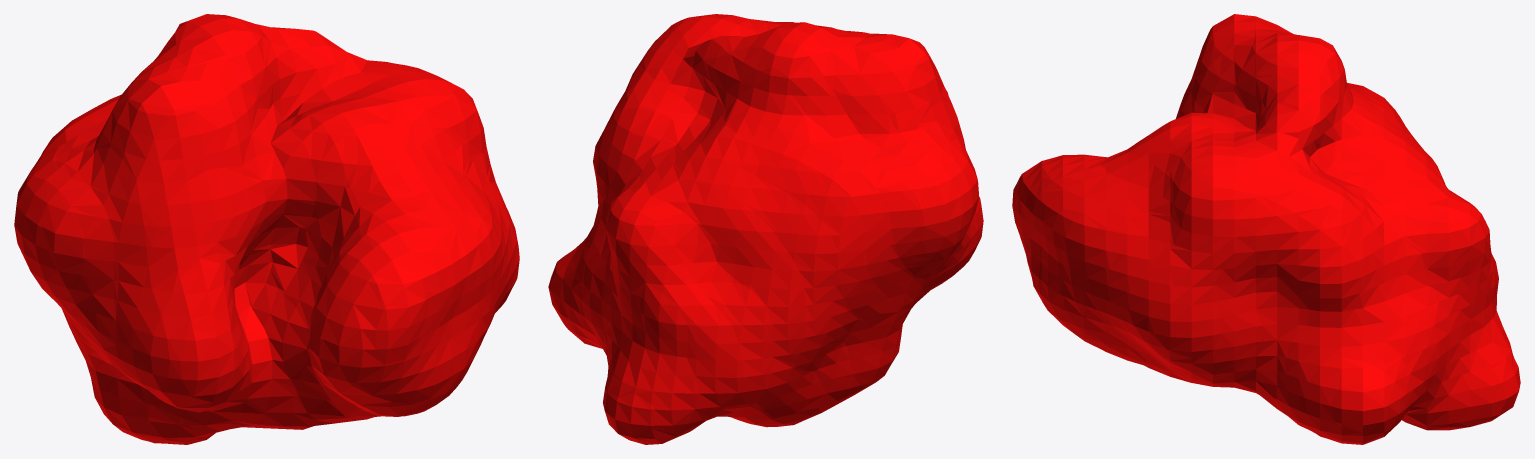
The model's file is zinT_coarse.dae.
3 views of the same model, side by side, from view 1: azimuth 30°, elevation 25°; view 2: azimuth 150°, elevation 25°; view 3: azimuth 270°, elevation 25° (orthographic). The views are drawn at different scales.
Visible parts, largest first — view 1: zinT; view 2: zinT; view 3: zinT.
Boxes of the visible parts, left/top/right/bottom form: zinT: left=14, top=14, right=519, bottom=444; zinT: left=548, top=14, right=983, bottom=444; zinT: left=1012, top=14, right=1520, bottom=444.
Bounding box in the file's own units: 46.85 × 44.13 × 55.49.
